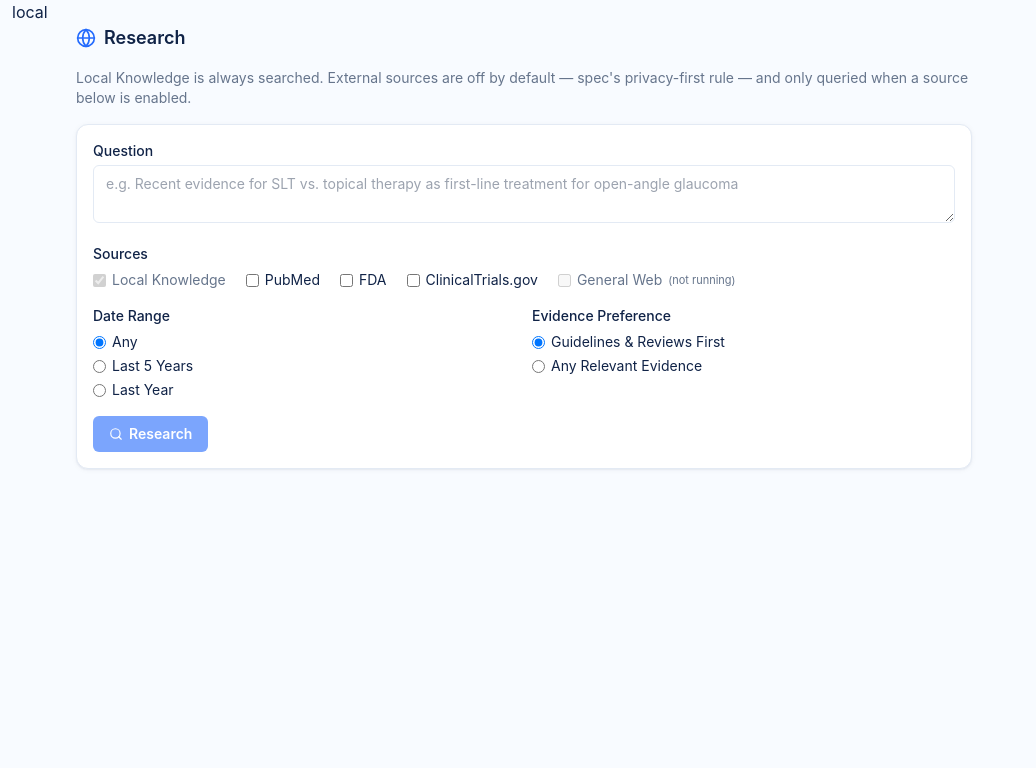
Test case: Research page › checking an external source enables Research Mode in the header and includes it in the query
Expected: the text "PubMed" is shown, [246,270,320,290]
Expected: the text with test id "research-mode-spy" reads "local", [12,2,48,22]
Click the checkbox labelled "PubMed": (252, 280) [246,274,259,286]
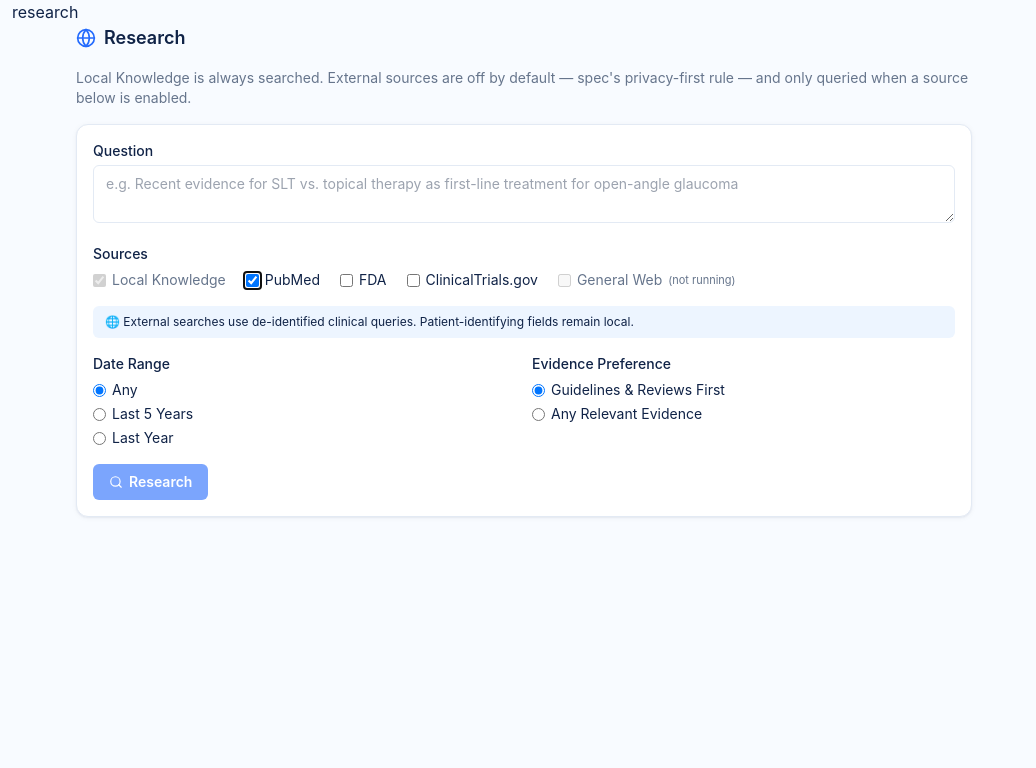
Expected: the text with test id "research-mode-spy" reads "research", [12,2,78,22]
Expected: the text "de-identified clinical queries" is shown, [105,314,634,329]
In the text box with placeholder "Recent evidence for SLT": (524, 194) [93,165,955,223], type "Latest evidence for SLT"
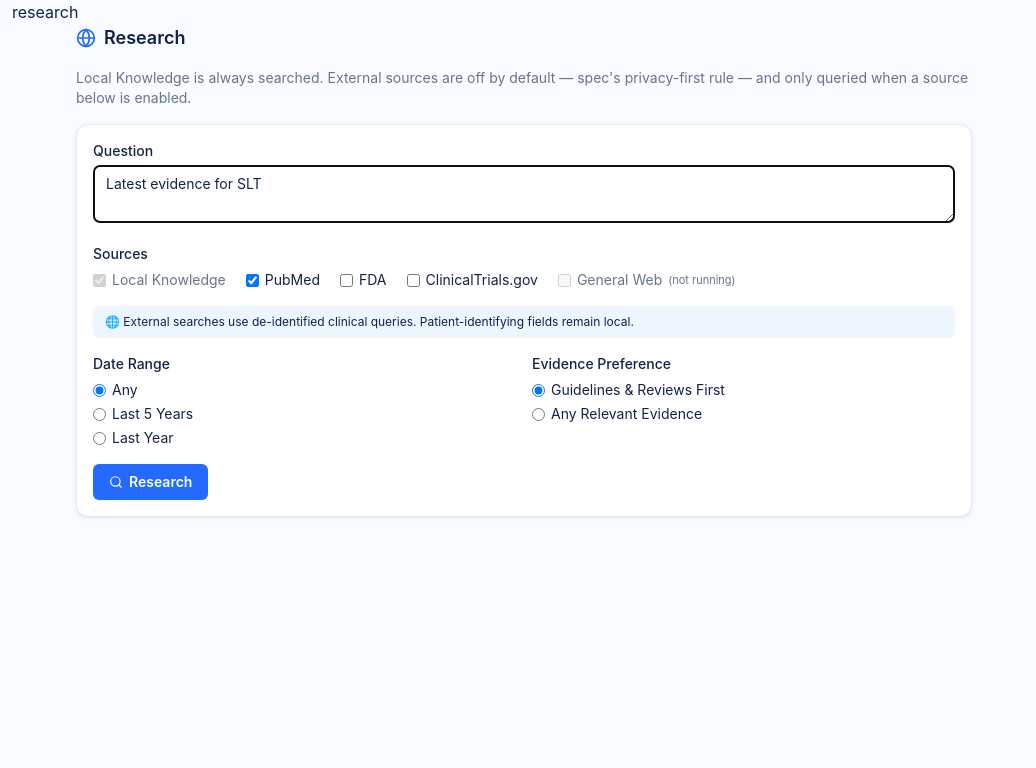
Click the button "Research": (151, 482) [93,464,208,500]
(page scrolled)
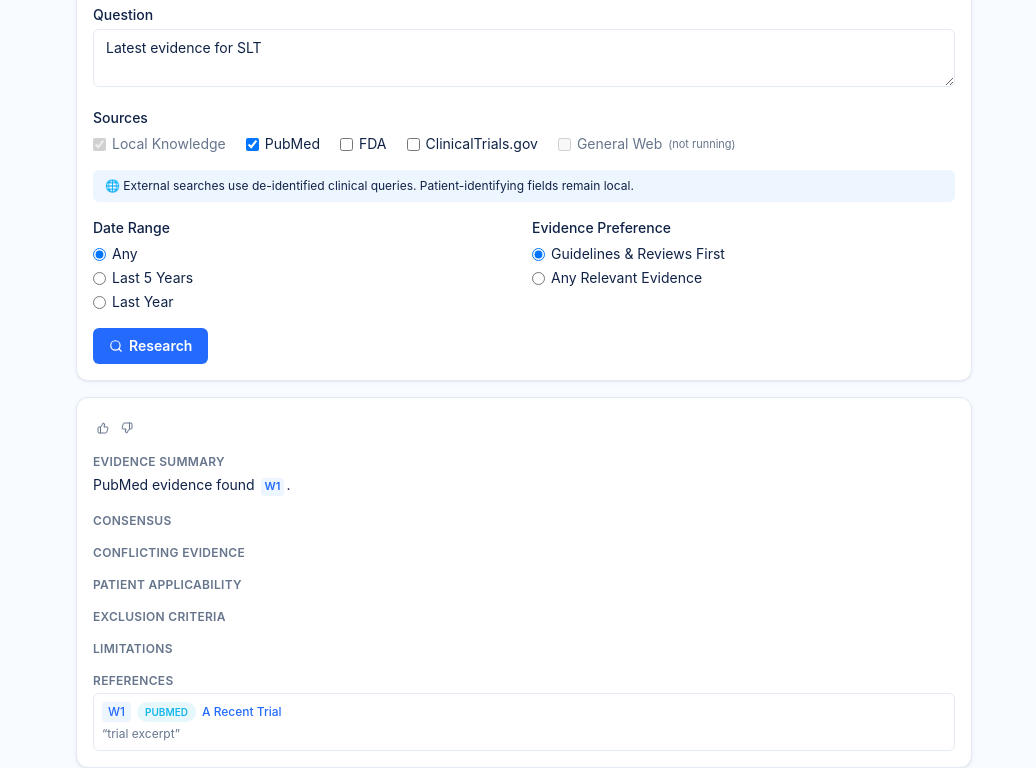
Expected: the text "PubMed evidence found W1 ." is shown, [93,476,290,496]
Expected: the text "PUBMED" is shown, [137,702,196,722]
